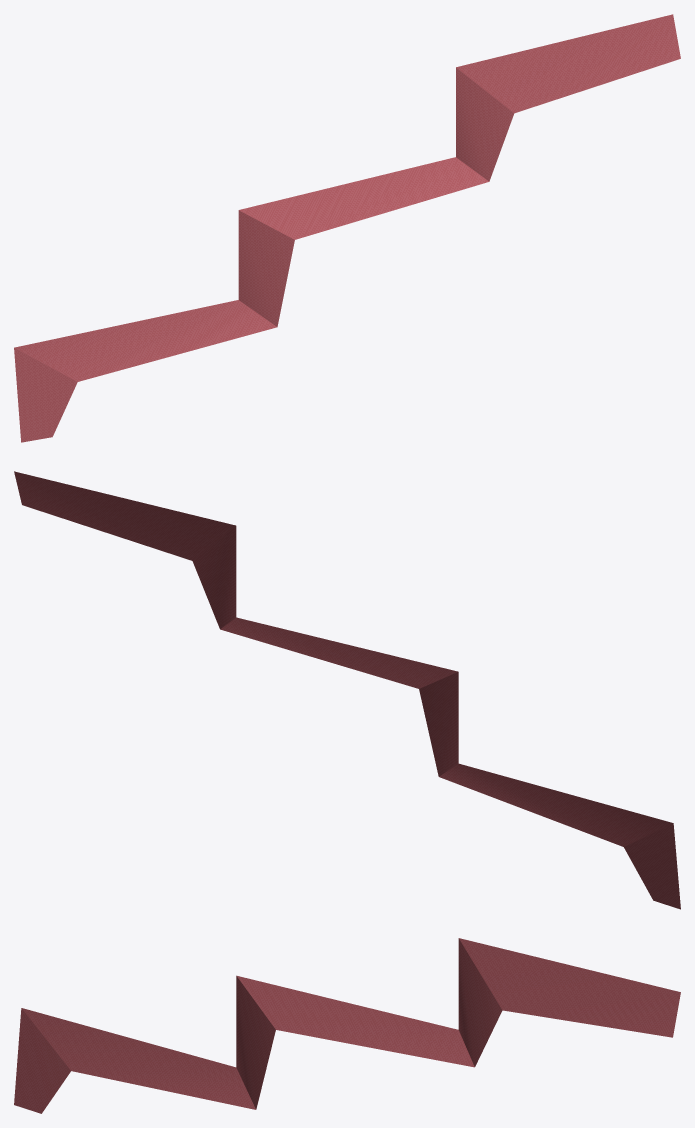
The model's file is kd_stage_135ded_4_70_exterior_piece_0.glb.
3 renders of one model, top to bottom at view 1: azimuth 30°, elevation 25°; view 2: azimuth 150°, elevation 25°; view 3: azimuth 330°, elevation 25°, orthographic. The views are drawn at different scales.
Visible parts, largest first — view 1: kd_stage_135ded_4_70_exterior_piece_0; view 2: kd_stage_135ded_4_70_exterior_piece_0; view 3: kd_stage_135ded_4_70_exterior_piece_0.
Boxes of the visible parts, x1,y1,x2,y2 form: kd_stage_135ded_4_70_exterior_piece_0: [14, 14, 680, 442]; kd_stage_135ded_4_70_exterior_piece_0: [14, 471, 680, 909]; kd_stage_135ded_4_70_exterior_piece_0: [14, 938, 680, 1113].
Size of the model in its own units: 1.14 by 0.45 by 0.0513.
1 material, 1 textured.
